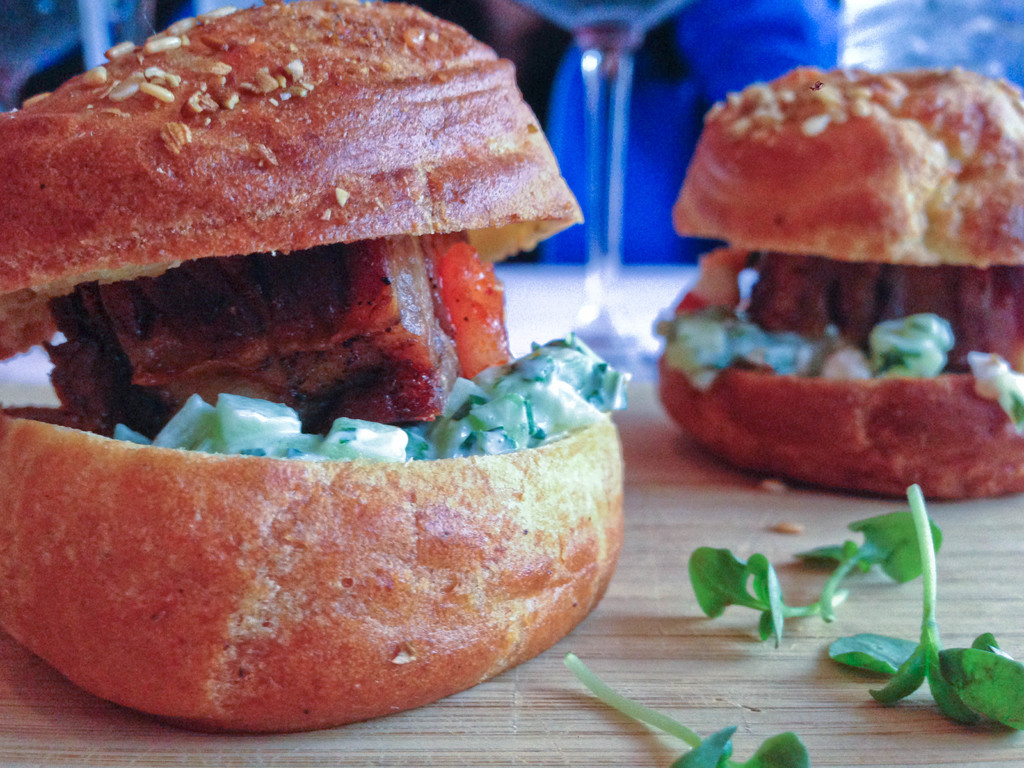Hamburger: (0, 0, 632, 728), (657, 65, 1023, 494)
